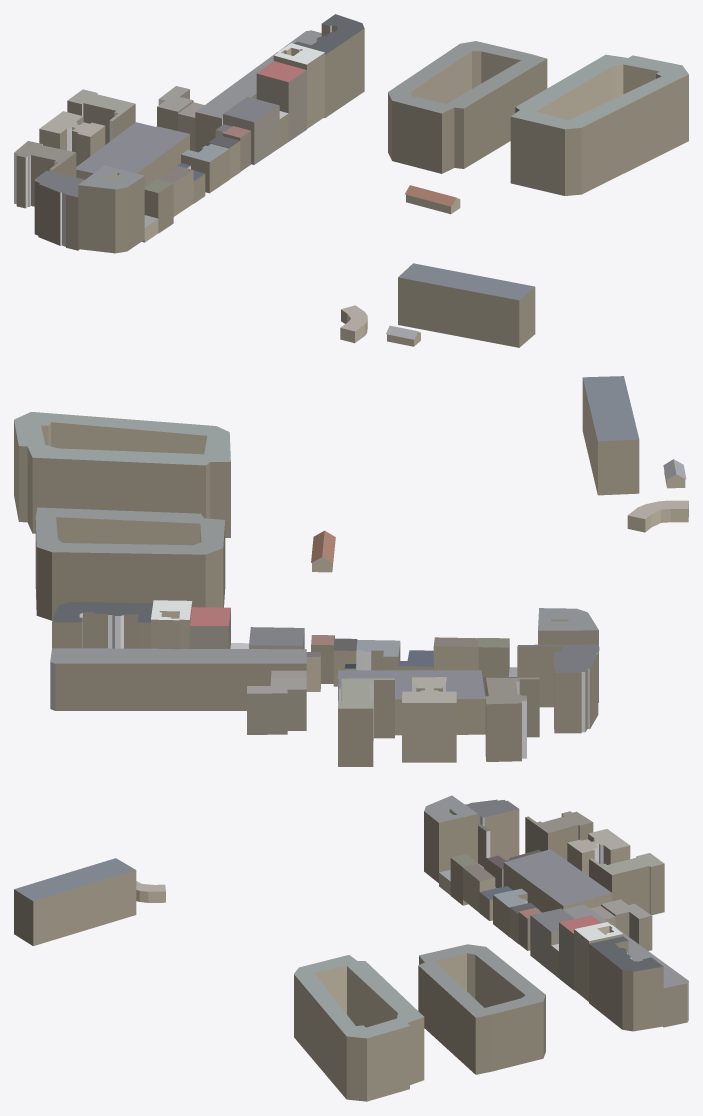
3 views of the same model, one above another, from view 1: azimuth 30°, elevation 25°; view 2: azimuth 150°, elevation 25°; view 3: azimuth 270°, elevation 25° (orthographic). The views are drawn at different scales.
Visible parts, largest first — view 1: tuile; view 2: tuile; view 3: tuile.
Part boxes in pixels (x1,y1,x2,y2): tuile: (14, 14, 688, 347); tuile: (14, 376, 688, 766); tuile: (14, 795, 688, 1101).
Bounding box in the file's own units: 264 × 36.63 × 284.
